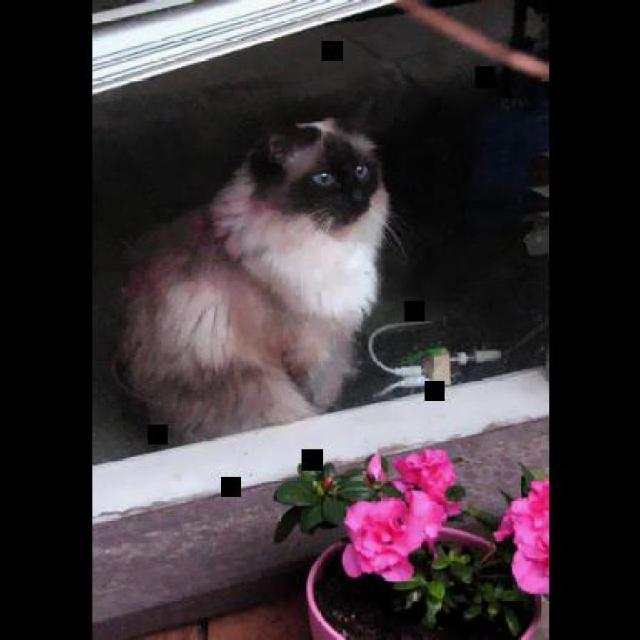unauthorized: (109, 111, 408, 446)
